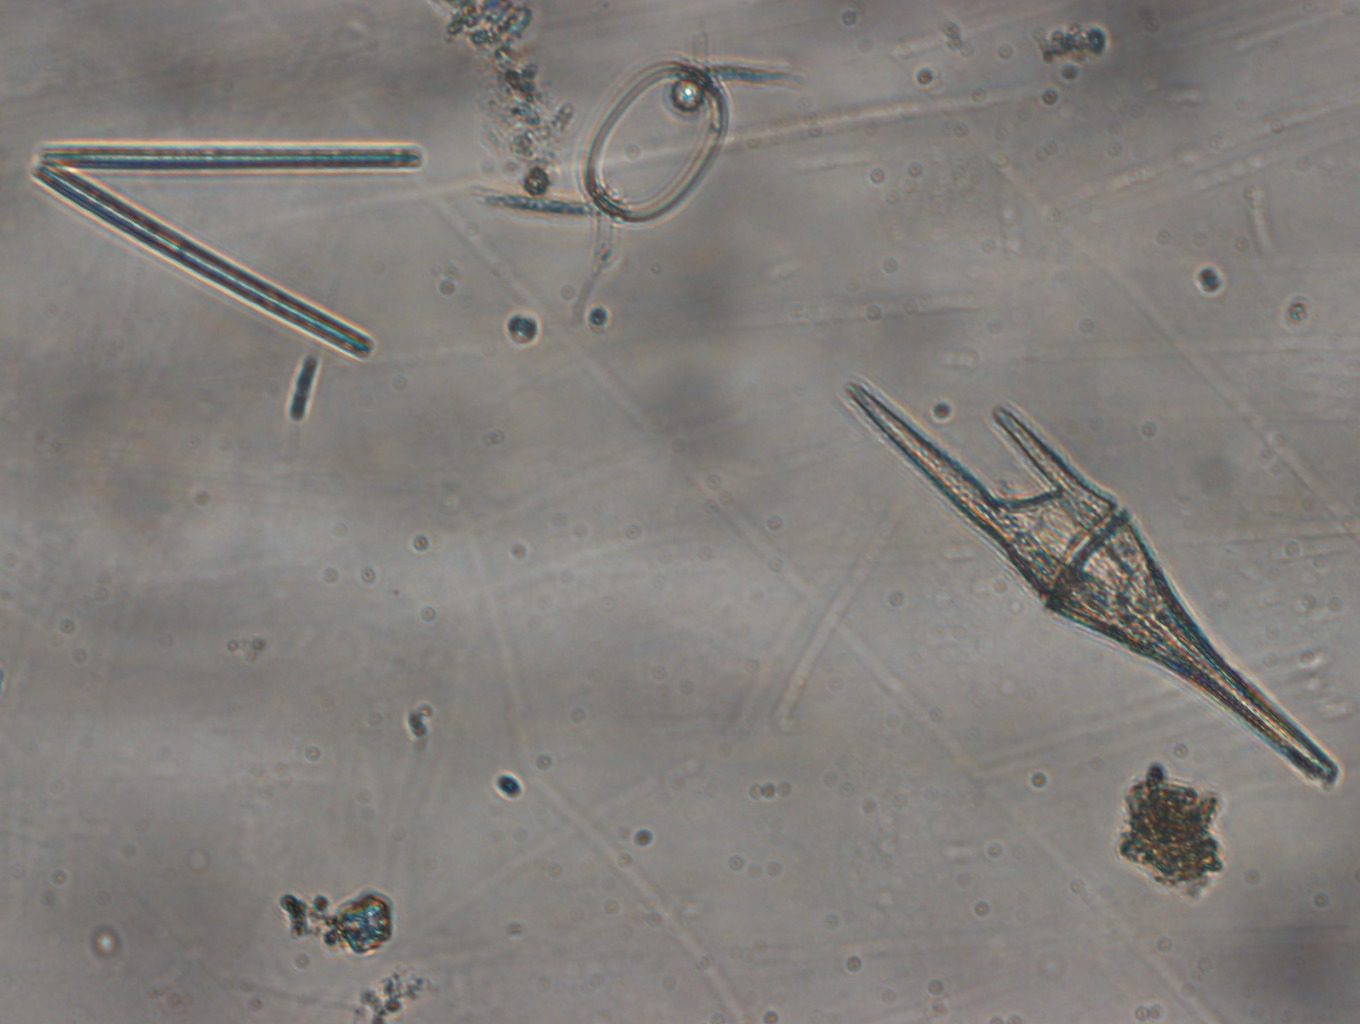ceratium furca: (829, 374, 1344, 788)
chaetoceros: (466, 25, 811, 331)
thalassionema nitzschioides: (27, 133, 426, 361)
